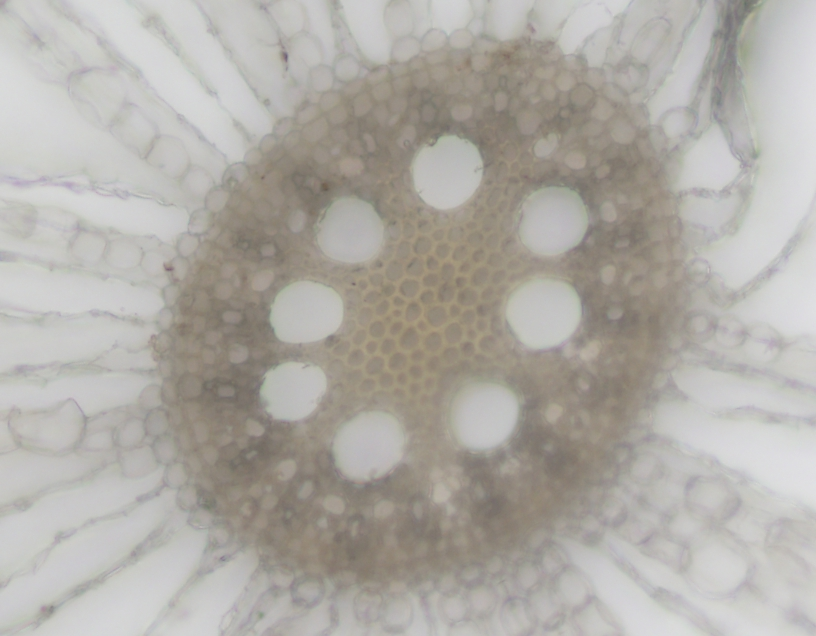lm: (505, 275, 583, 350), (410, 132, 483, 210), (332, 409, 408, 481), (450, 378, 522, 452), (516, 184, 589, 255), (316, 195, 385, 265), (268, 279, 344, 342), (258, 359, 328, 421)
